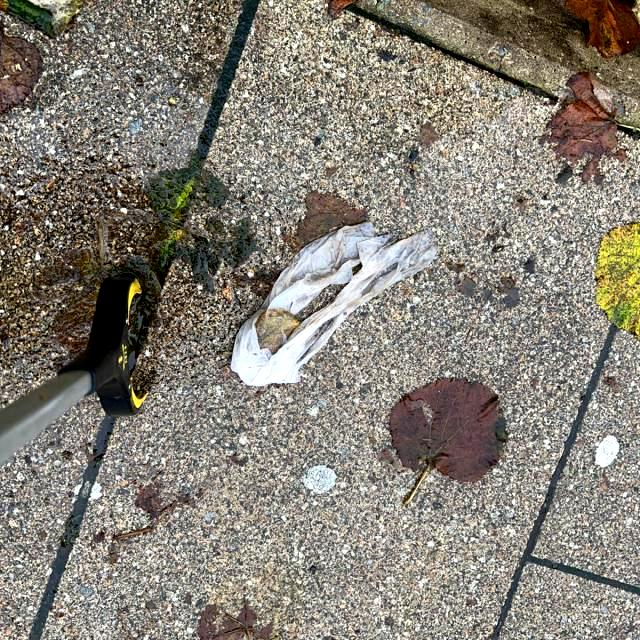Paper: (226, 217, 444, 391)
